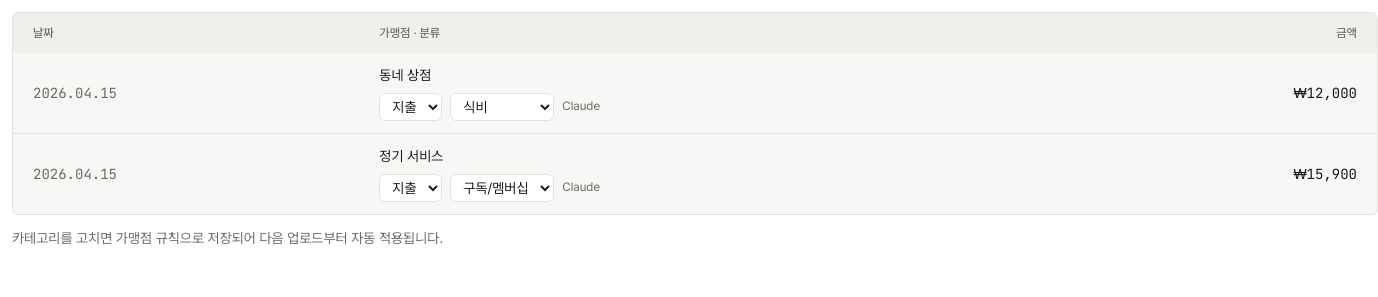
Test case: 거래 목록 수정 › 연결이 끊겨도 무엇을 해야 하는지 알립니다
The width and height of the screenshot is (1378, 297).
Select "쇼핑" in the dropdown named "동네 상점 카테고리" at (502, 107), box [450,93,554,121]
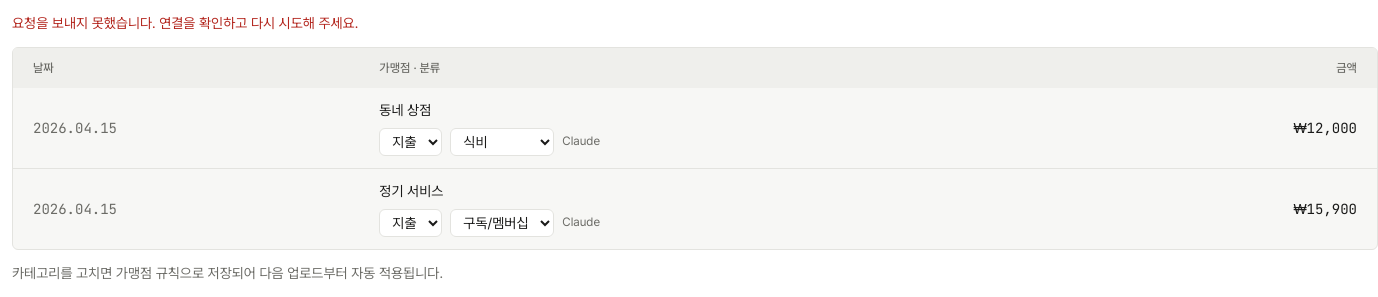
Now the text "요청을 보내지 못했습니다. 연결을 확인하고 다시 시도해 주세요." is shown, box [12,15,358,31]
